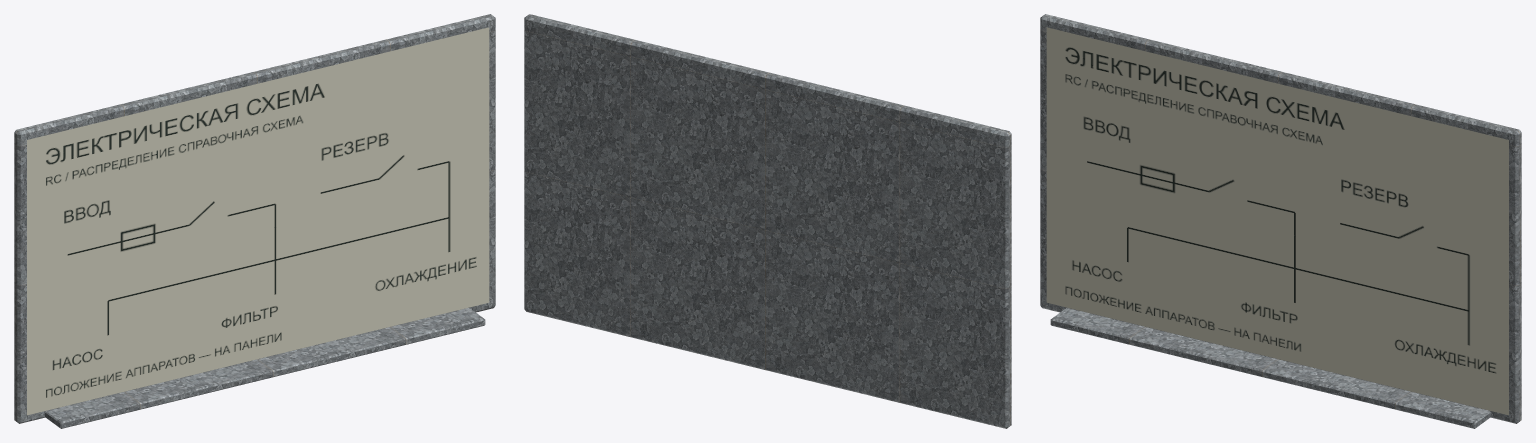
The model's file is electrical_notes_board.glb.
3 views of the same model, side by side, from view 1: azimuth 30°, elevation 25°; view 2: azimuth 150°, elevation 25°; view 3: azimuth 330°, elevation 25° (orthographic).
Visible parts, largest first — view 1: Procedure surface, Oxidized aluminum board frame; view 2: Oxidized aluminum board frame; view 3: Procedure surface, Oxidized aluminum board frame.
Boxes of the visible parts, box(x1,y1,x2,y2) form: Procedure surface: box(27, 27, 489, 415); Oxidized aluminum board frame: box(14, 14, 495, 428); Oxidized aluminum board frame: box(524, 14, 1011, 428); Procedure surface: box(1046, 27, 1508, 415); Oxidized aluminum board frame: box(1040, 14, 1521, 428).
Size of the model in its own units: 1.8 by 1.05 by 0.1375.
2 materials, 2 textured.
